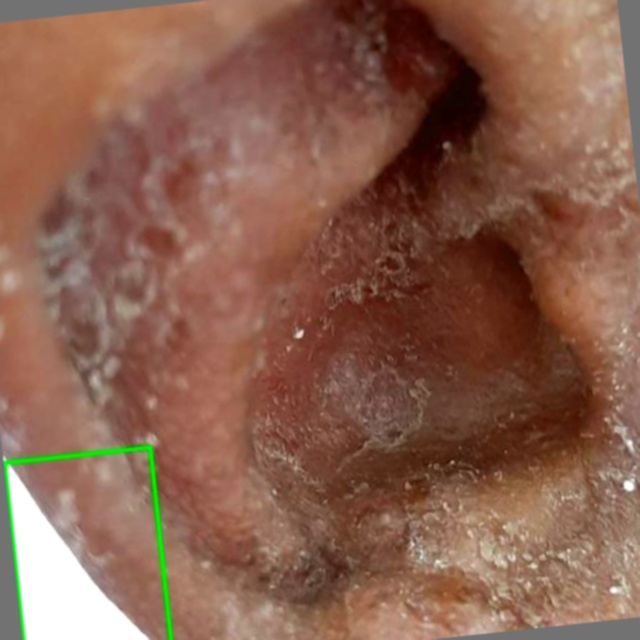Eczema: (4, 447, 171, 639)
